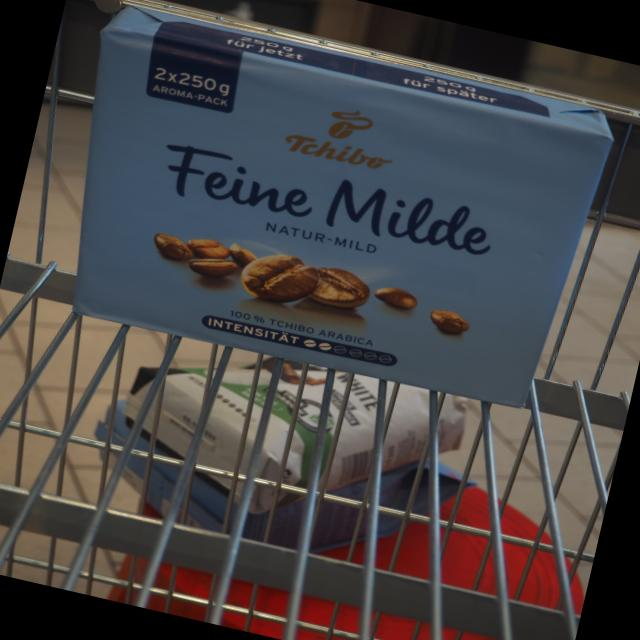FM Gemahlen: (61, 0, 629, 418)
